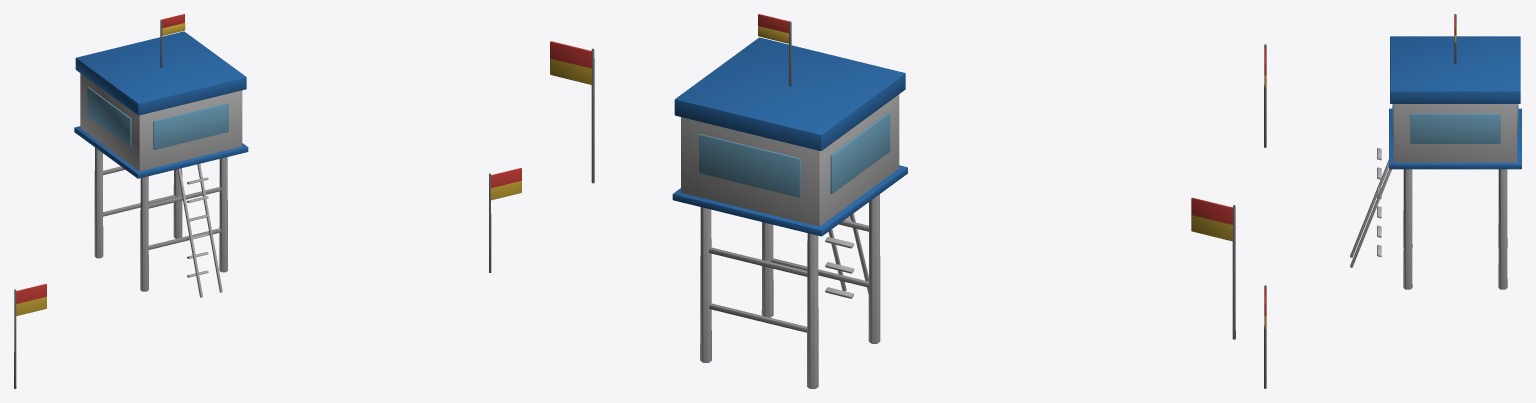
Rendered from lm-bondi.glb.
3 renders of one model, left to right at view 1: azimuth 30°, elevation 25°; view 2: azimuth 150°, elevation 25°; view 3: azimuth 270°, elevation 25°, orthographic. The views are drawn at different scales.
Size of the model in its own units: 12.83 by 5.9 by 5.43.
